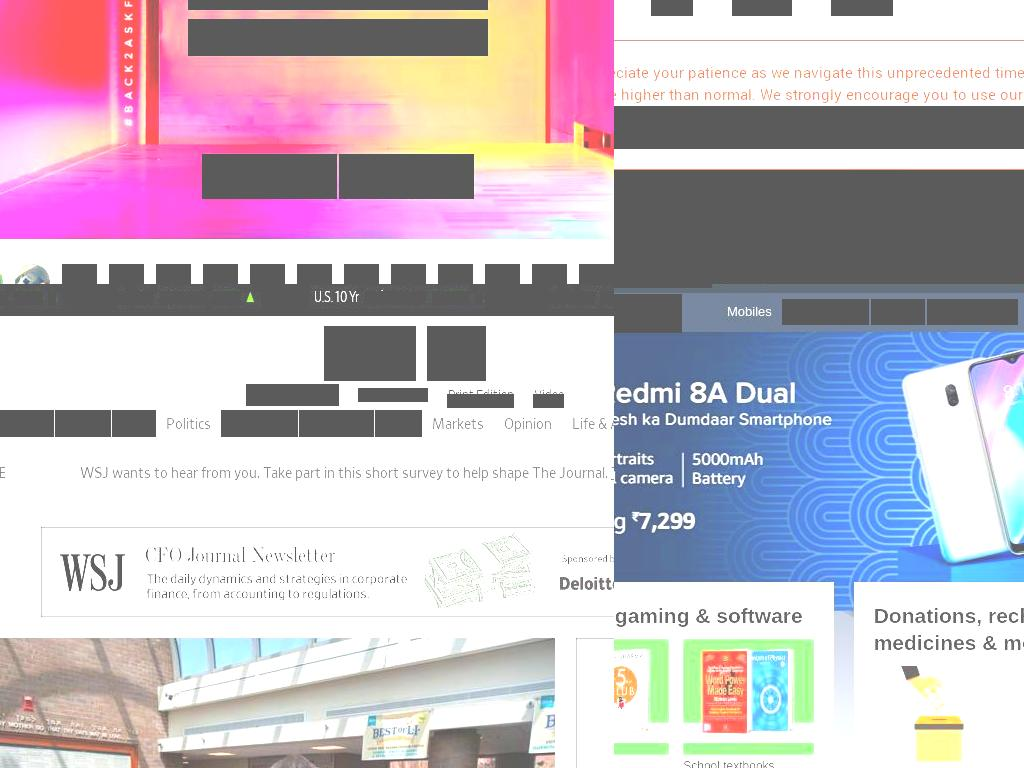button: (0, 638, 555, 768), (683, 639, 814, 755), (873, 666, 1005, 768), (188, 19, 488, 56), (614, 639, 670, 755), (324, 326, 416, 381), (427, 326, 486, 381), (876, 343, 997, 369), (188, 0, 488, 10), (842, 387, 945, 413), (614, 294, 682, 333), (719, 343, 819, 369), (927, 299, 1018, 325), (782, 299, 869, 325), (221, 410, 298, 437), (246, 384, 339, 406), (299, 410, 374, 437), (423, 410, 494, 437), (719, 387, 791, 413), (495, 410, 561, 437), (157, 410, 220, 437), (719, 299, 780, 325), (55, 410, 111, 437), (0, 410, 54, 437), (562, 410, 614, 437), (871, 299, 925, 325), (821, 343, 874, 369), (375, 410, 422, 437), (793, 387, 840, 413), (112, 410, 156, 437), (15, 264, 50, 284), (62, 264, 97, 284), (109, 264, 144, 284), (156, 264, 191, 284), (203, 264, 238, 284), (250, 264, 285, 284), (297, 264, 332, 284), (344, 264, 379, 284), (391, 264, 426, 284), (438, 264, 473, 284), (485, 264, 520, 284), (532, 264, 567, 284), (579, 264, 614, 284), (999, 343, 1024, 369)
field: (614, 211, 684, 262)
heading: (744, 190, 1024, 284), (873, 602, 1024, 656), (614, 602, 814, 629)
iframe: (41, 527, 614, 617)
image: (0, 638, 555, 768), (683, 639, 814, 755), (873, 666, 1004, 768), (614, 639, 670, 755), (202, 154, 337, 199), (339, 154, 474, 199)
link: (614, 106, 1024, 149), (698, 106, 769, 127), (447, 394, 514, 408), (533, 394, 564, 408)
text: (614, 170, 1024, 284), (614, 62, 1024, 127), (80, 467, 611, 481), (769, 106, 1024, 127), (0, 463, 60, 486), (614, 312, 682, 332), (683, 756, 775, 768), (831, 0, 893, 16), (358, 388, 428, 402), (246, 389, 327, 401), (732, 0, 792, 16), (364, 291, 426, 305), (651, 0, 693, 16), (159, 291, 206, 305), (549, 291, 595, 305), (314, 291, 359, 305), (116, 291, 154, 305), (432, 291, 470, 305), (14, 291, 43, 305), (212, 291, 241, 305), (600, 291, 614, 305), (48, 292, 56, 305), (246, 292, 254, 305), (475, 292, 483, 305)
